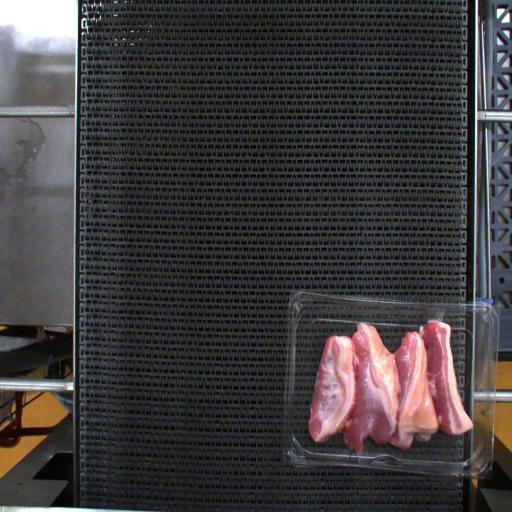packaging-error: (427, 309, 452, 322)
